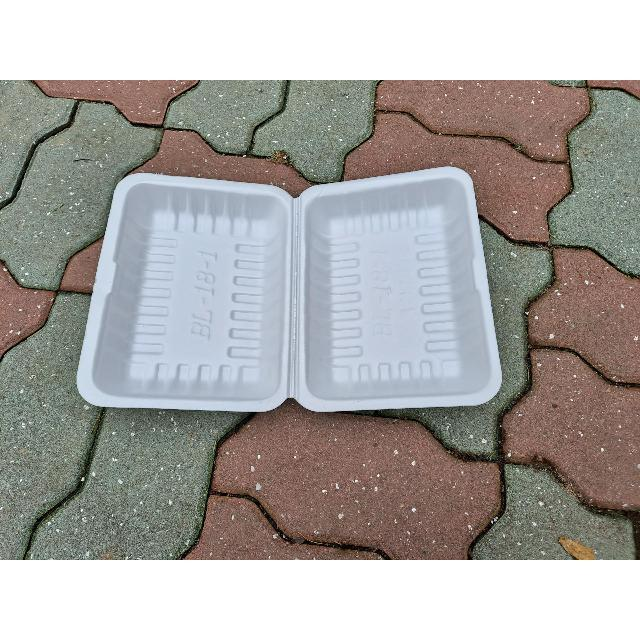Plastico descartable: (77, 167, 506, 414)
